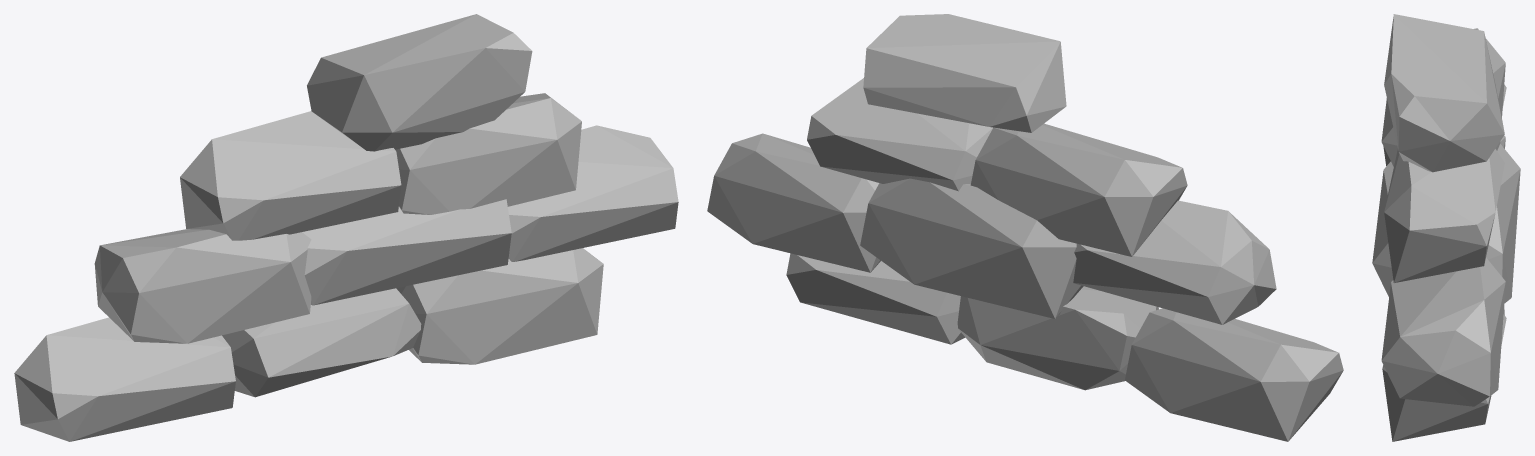
File: stones_016.glb
3 views of the same model, side by side, from view 1: azimuth 30°, elevation 25°; view 2: azimuth 150°, elevation 25°; view 3: azimuth 270°, elevation 25° (orthographic). The views are drawn at different scales.
Visible parts, largest first — view 1: stones_016; view 2: stones_016; view 3: stones_016.
Part boxes in pixels (<box>): stones_016: <box>14,14,678,441</box>; stones_016: <box>707,14,1343,441</box>; stones_016: <box>1372,14,1520,441</box>.
Bounding box in the file's own units: 4.34 × 2.08 × 0.8806.
1 material, 1 textured.
